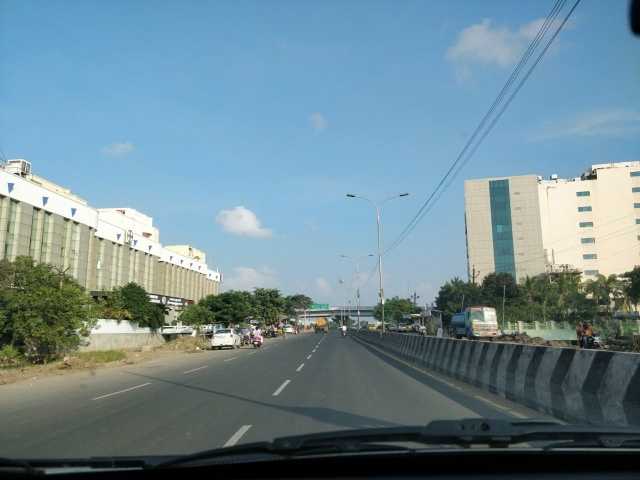auto: (367, 320, 378, 331)
car: (211, 331, 244, 350), (396, 315, 411, 334), (397, 321, 407, 332)
motorbike: (572, 322, 602, 348), (250, 326, 265, 346), (340, 323, 351, 340), (419, 320, 429, 334)
person: (279, 324, 290, 341)
truck: (444, 308, 505, 340), (451, 309, 502, 336), (313, 317, 331, 334)
